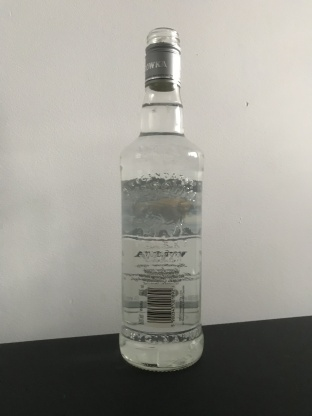nakretka: (142, 24, 183, 93)
